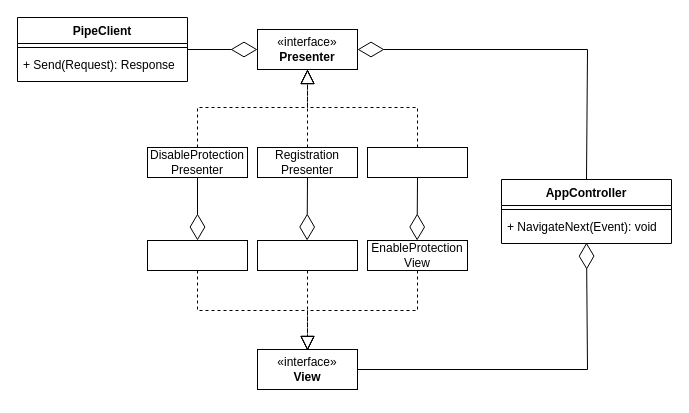
This 689x413 diagram has some shape labels left out. Each missing label, with the centre of its shape:
DisableProtection View: (197,255)
EnableProtection Presenter: (417,162)
Registration View: (307,255)
